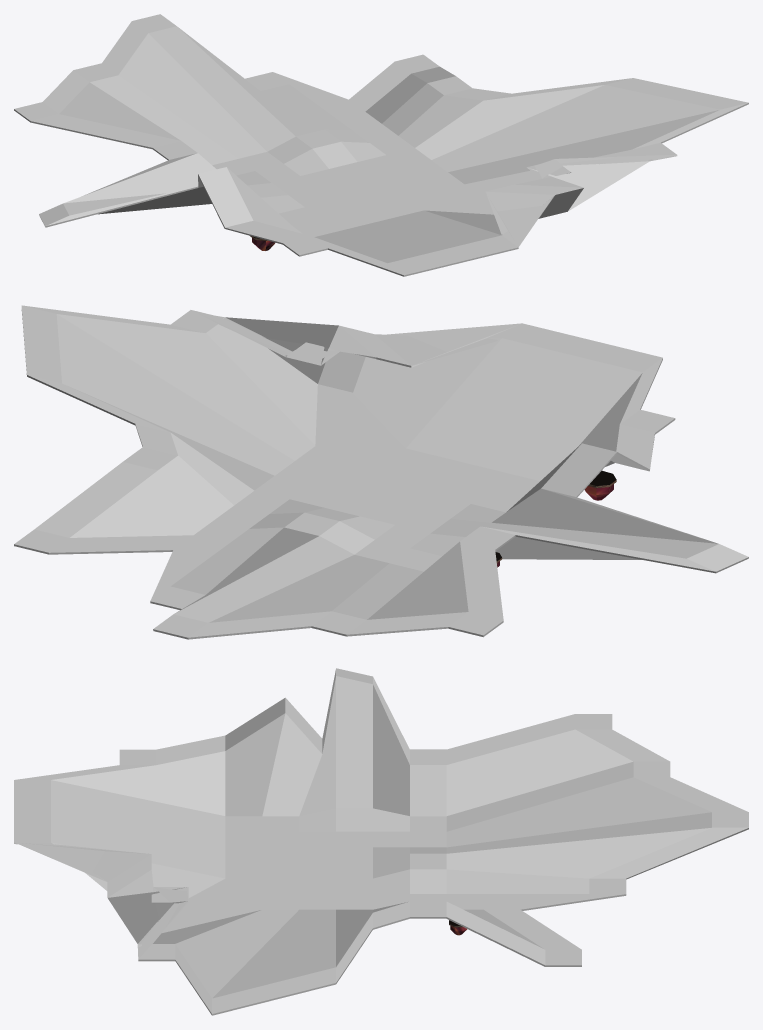
The model's file is plantCieling.fbx.
3 views of the same model, one above another, from view 1: azimuth 30°, elevation 25°; view 2: azimuth 150°, elevation 25°; view 3: azimuth 270°, elevation 25° (orthographic). The views are drawn at different scales.
Parts seen in each view (by area): view 1: Grid.006; view 2: Grid.006, Circle.041; view 3: Grid.006.
Boxes of the visible parts, left/top/right/bottom form: Grid.006: left=14, top=14, right=748, bottom=276; Grid.006: left=14, top=305, right=748, bottom=639; Circle.041: left=584, top=470, right=616, bottom=500; Grid.006: left=14, top=668, right=748, bottom=1015.
Bounding box in the file's own units: 165 × 16.24 × 145.
